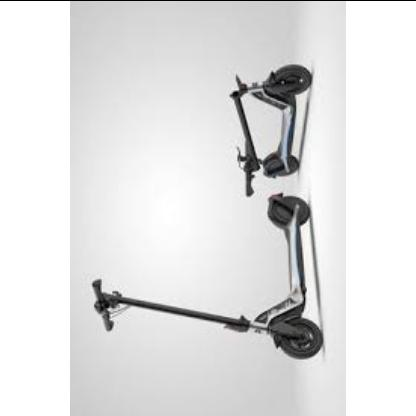bike: (91, 63, 326, 362)
